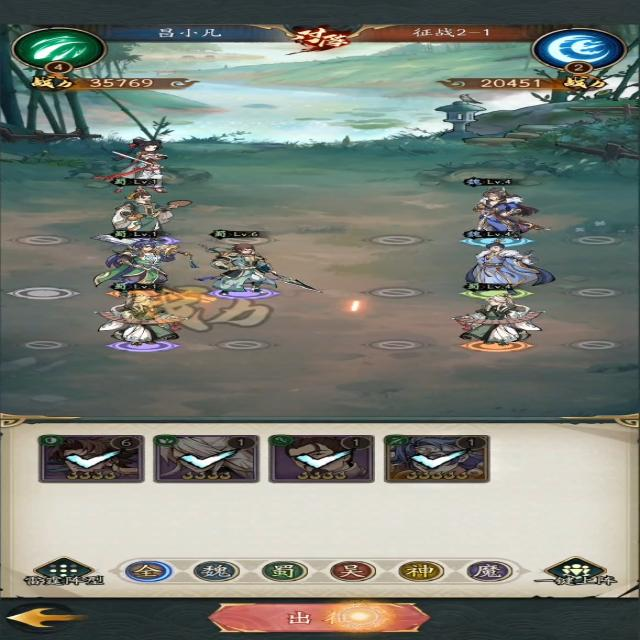navigation-myHeroes: (378, 430, 499, 486), (32, 432, 148, 488), (263, 430, 378, 486), (150, 434, 263, 486)
operation-back: (7, 600, 86, 634)
operation-camp: (457, 556, 518, 584), (115, 558, 176, 585), (252, 558, 312, 584), (389, 558, 446, 584), (321, 558, 377, 583), (188, 558, 241, 584)
operation-confirm: (206, 599, 431, 636)
operation-deployment: (17, 555, 111, 588)
operation-oneKeyDeployment: (529, 556, 622, 588)
